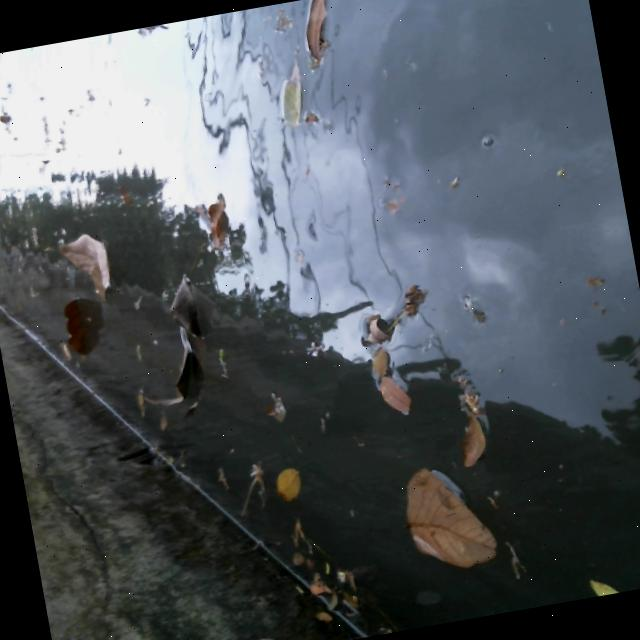Big-leaf: (109, 266, 236, 420), (387, 454, 513, 587), (55, 224, 122, 301), (194, 186, 250, 264), (54, 300, 93, 357)
Small-leaf: (442, 380, 501, 468), (262, 61, 322, 141), (299, 0, 347, 69), (346, 314, 401, 355), (264, 453, 307, 504), (284, 533, 329, 579), (579, 569, 640, 599), (377, 376, 422, 415), (364, 345, 398, 379), (212, 465, 241, 504), (265, 388, 294, 426), (54, 337, 81, 368), (314, 607, 341, 638), (132, 286, 153, 322), (296, 569, 331, 590), (155, 412, 178, 443), (136, 341, 155, 372)
